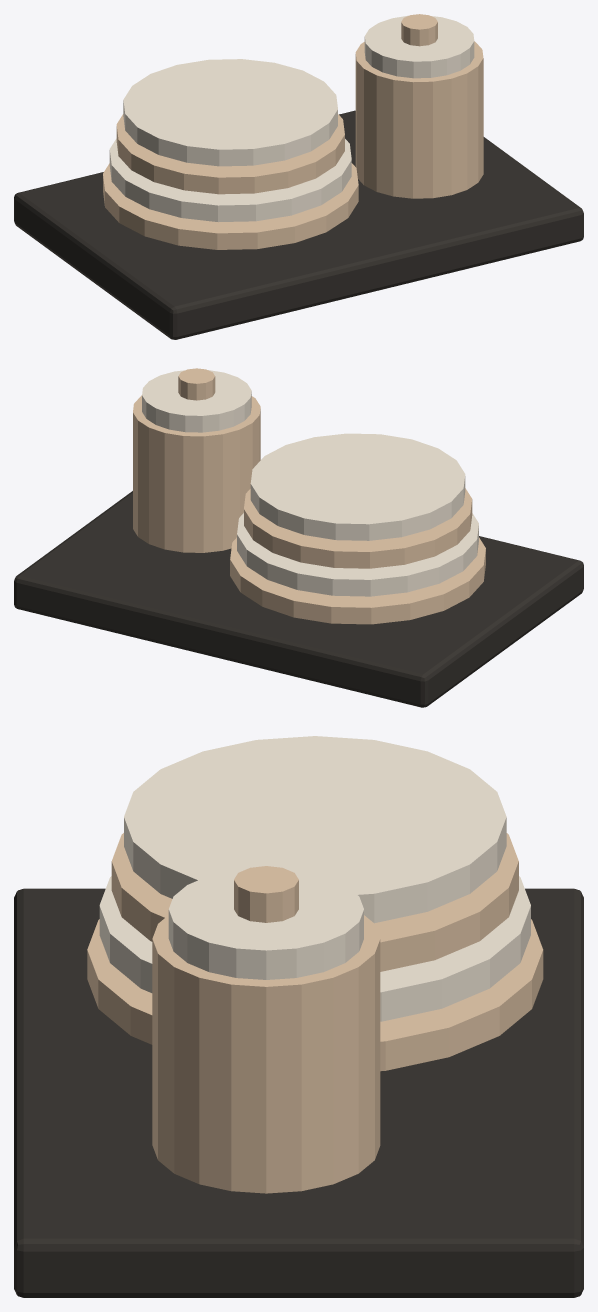
The model's file is ceramics.glb.
3 renders of one model, top to bottom at view 1: azimuth 30°, elevation 25°; view 2: azimuth 150°, elevation 25°; view 3: azimuth 270°, elevation 25°, orthographic. The views are drawn at different scales.
Visible parts, largest first — view 1: ceramics-black-pallet, ceramics-plate-3, ceramics-jar, ceramics-plate-0, ceramics-plate-1, ceramics-plate-2, ceramics-lid, ceramics-knob; view 2: ceramics-black-pallet, ceramics-plate-3, ceramics-jar, ceramics-plate-0, ceramics-plate-1, ceramics-plate-2, ceramics-lid, ceramics-knob; view 3: ceramics-black-pallet, ceramics-plate-3, ceramics-jar, ceramics-lid, ceramics-plate-0, ceramics-plate-1, ceramics-plate-2, ceramics-knob.
Boxes of the visible parts, x1,y1,x2,y2 form: ceramics-black-pallet: [14, 110, 583, 339]; ceramics-plate-3: [123, 59, 337, 166]; ceramics-jar: [355, 41, 483, 198]; ceramics-plate-0: [103, 163, 358, 249]; ceramics-plate-1: [109, 138, 351, 222]; ceramics-plate-2: [116, 114, 344, 194]; ceramics-lid: [364, 15, 474, 78]; ceramics-knob: [401, 14, 437, 46]; ceramics-black-pallet: [14, 491, 583, 707]; ceramics-plate-3: [250, 433, 465, 540]; ceramics-jar: [133, 395, 260, 552]; ceramics-plate-0: [230, 537, 485, 624]; ceramics-plate-1: [237, 513, 478, 596]; ceramics-plate-2: [244, 488, 472, 568]; ceramics-lid: [142, 370, 251, 432]; ceramics-knob: [178, 368, 215, 400]; ceramics-black-pallet: [14, 888, 583, 1297]; ceramics-plate-3: [124, 736, 506, 923]; ceramics-jar: [152, 915, 380, 1193]; ceramics-lid: [168, 869, 363, 979]; ceramics-plate-0: [87, 919, 543, 1071]; ceramics-plate-1: [99, 876, 530, 1021]; ceramics-plate-2: [111, 833, 518, 971]; ceramics-knob: [234, 866, 298, 922].
Bounding box in the file's own units: 1.18 × 0.5219 × 0.7942.
